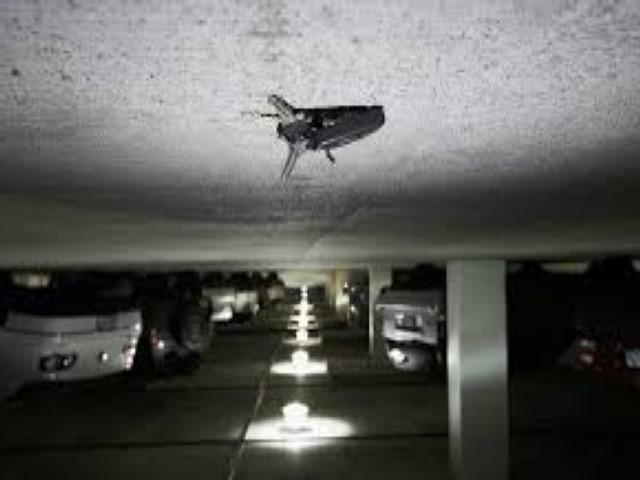key: (248, 97, 386, 386)
